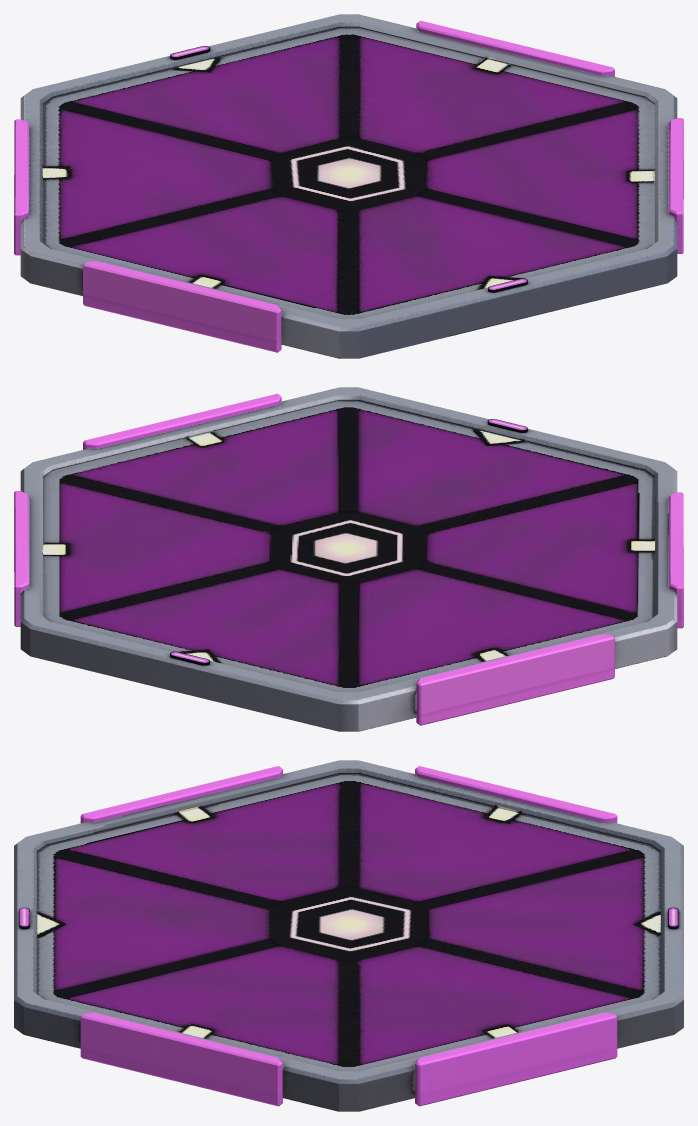
File: pm-hexagon-platform-large-01.glb
3 views of the same model, one above another, from view 1: azimuth 30°, elevation 25°; view 2: azimuth 150°, elevation 25°; view 3: azimuth 270°, elevation 25° (orthographic). The views are drawn at different scales.
Parts seen in each view (by area): view 1: HexagonPlatformLarge01_Art; view 2: HexagonPlatformLarge01_Art; view 3: HexagonPlatformLarge01_Art.
Boxes of the visible parts, <box> form: HexagonPlatformLarge01_Art: <box>14,14,683,358</box>; HexagonPlatformLarge01_Art: <box>14,387,683,731</box>; HexagonPlatformLarge01_Art: <box>14,760,683,1111</box>.
Size of the model in its own units: 17.73 by 1.1 by 15.59.
1 material, 1 textured.
